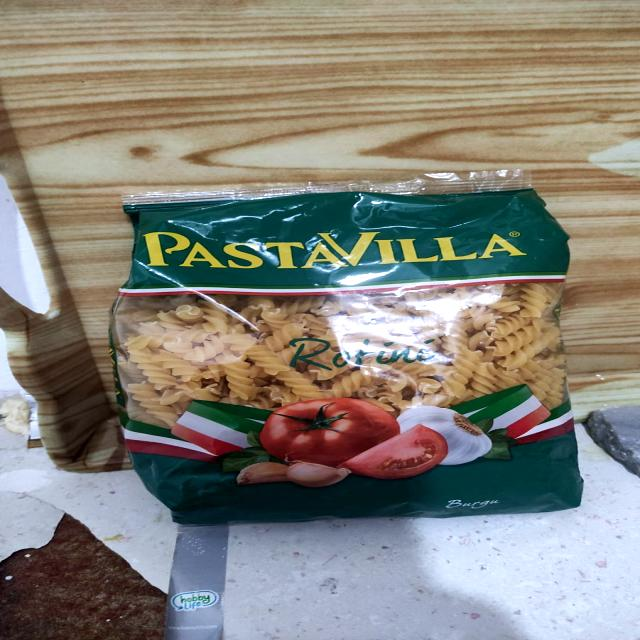fusilli pasta: (124, 201, 574, 510)
